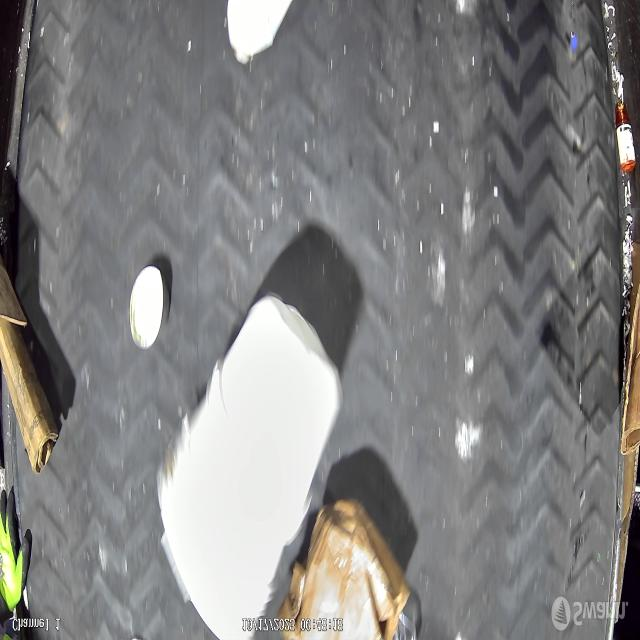can: (129, 265, 171, 350)
